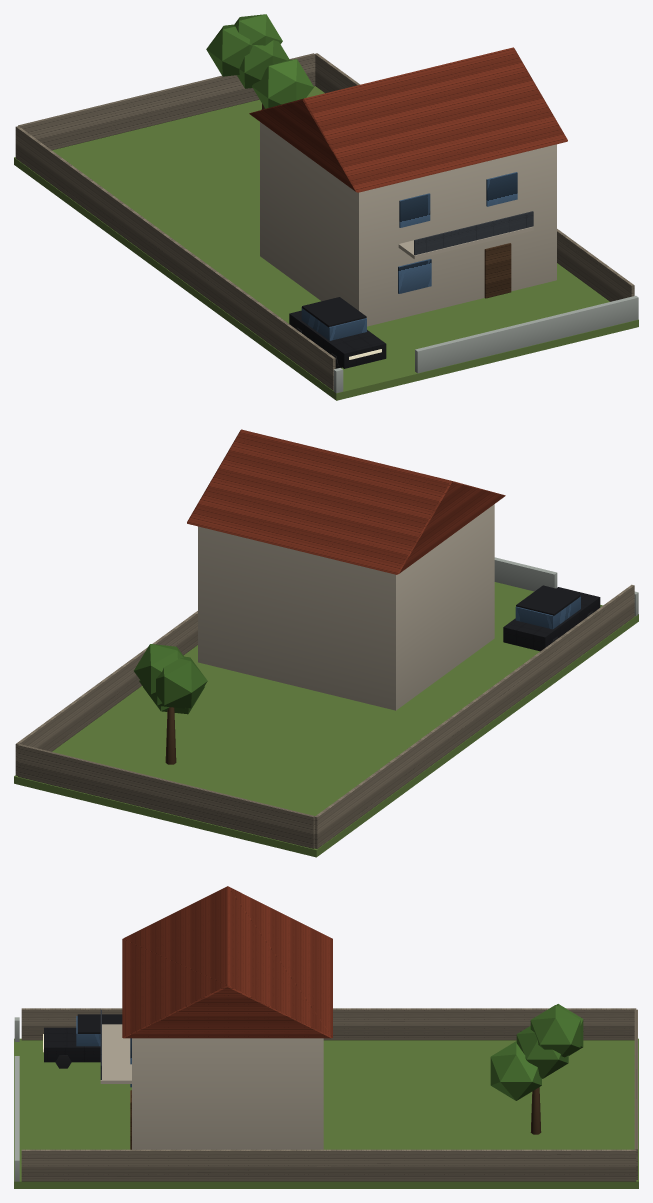
The model's file is sobrado_2.glb.
The picture shows the model from 3 angles, top to bottom: view 1: azimuth 30°, elevation 25°; view 2: azimuth 150°, elevation 25°; view 3: azimuth 270°, elevation 25°; orthographic projection. The views are drawn at different scales.
Parts seen in each view (by area): view 1: sobrado_2_liso, sobrado_2; view 2: sobrado_2_liso, sobrado_2; view 3: sobrado_2_liso, sobrado_2.
Boxes of the visible parts, bbox=[...] form: sobrado_2_liso: bbox=[14, 14, 638, 400]; sobrado_2: bbox=[15, 47, 634, 390]; sobrado_2_liso: bbox=[14, 504, 638, 857]; sobrado_2: bbox=[15, 429, 634, 848]; sobrado_2_liso: bbox=[14, 1004, 638, 1188]; sobrado_2: bbox=[21, 886, 637, 1181].
Bounding box in the file's own units: 13 × 8.32 × 24.
Materials: 5 (3 with a texture image).
